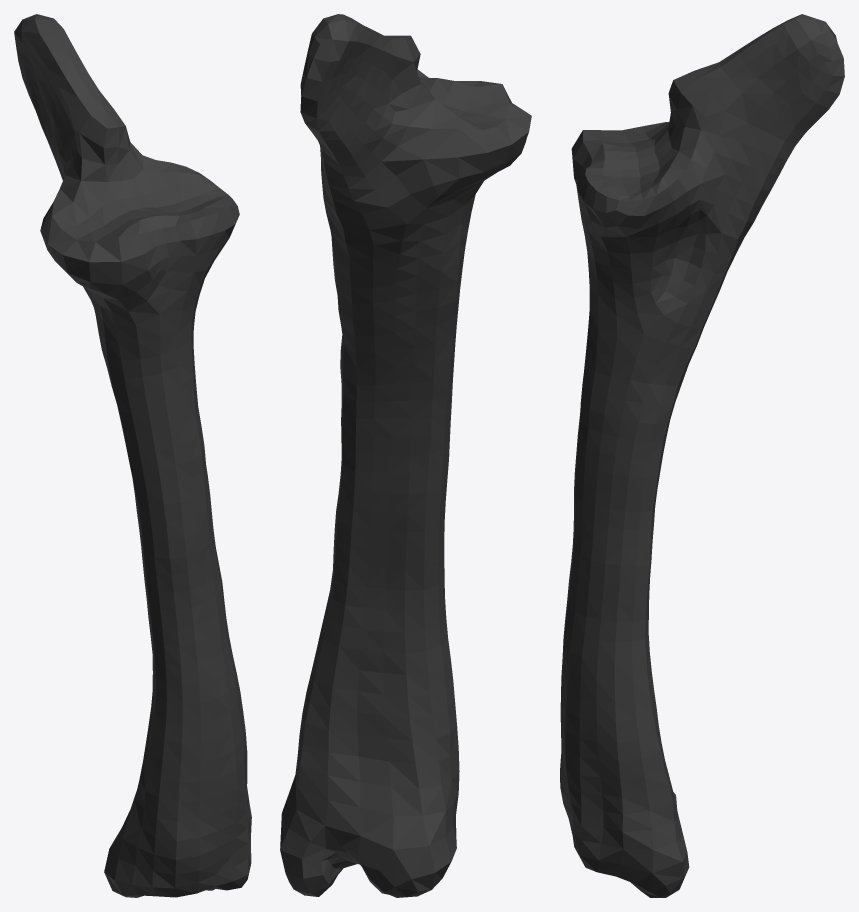
Rendered from Radius_R.glb.
The picture shows the model from 3 angles, left to right: view 1: azimuth 30°, elevation 25°; view 2: azimuth 150°, elevation 25°; view 3: azimuth 270°, elevation 25°; orthographic projection. The views are drawn at different scales.
Visible parts, largest first — view 1: Radius_R; view 2: Radius_R; view 3: Radius_R.
Part boxes in pixels (left/top/right/bottom): Radius_R: left=14, top=14, right=251, bottom=897; Radius_R: left=280, top=14, right=531, bottom=897; Radius_R: left=560, top=14, right=844, bottom=897.
Size of the model in its own units: 0.1524 by 0.6234 by 0.1927.
1 material, 1 textured.
